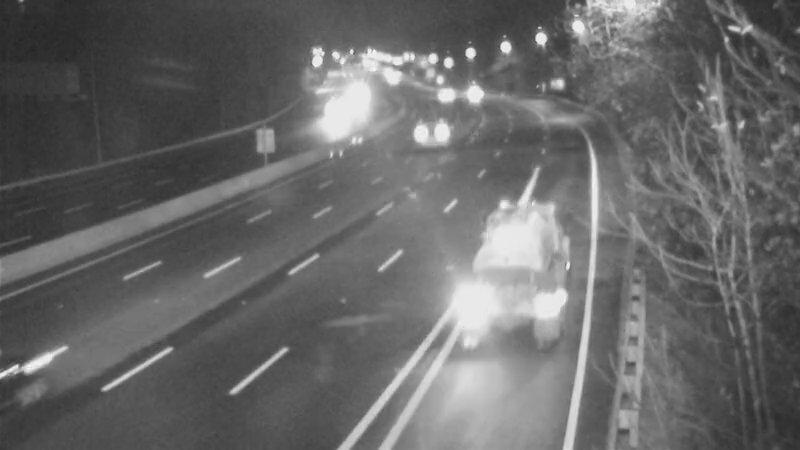vehicle: (468, 244, 548, 324), (448, 70, 498, 120), (419, 74, 469, 124), (413, 100, 463, 150)
